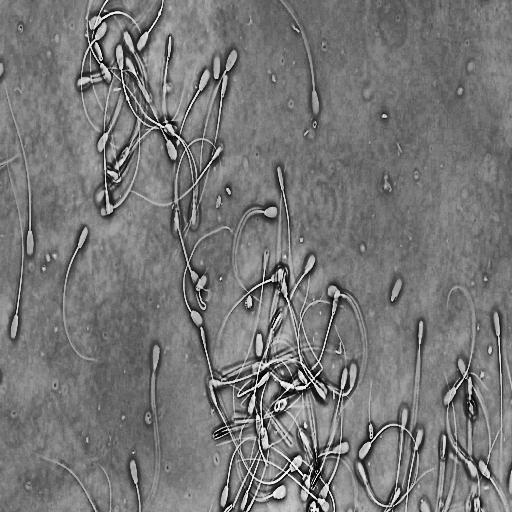coiled-tail: (195, 284, 209, 310), (274, 398, 286, 413), (276, 402, 279, 409)
loose-head: (387, 273, 407, 308), (211, 49, 222, 83), (254, 331, 265, 360)
loose-tail: (34, 448, 100, 512)
normal: (178, 72, 230, 242), (213, 265, 288, 368), (276, 163, 324, 307), (124, 142, 225, 210), (58, 222, 103, 365), (100, 64, 141, 220), (2, 71, 35, 262), (114, 39, 181, 133), (199, 45, 240, 197), (79, 19, 124, 150), (181, 223, 236, 330), (357, 420, 420, 512), (278, 0, 322, 125), (291, 286, 342, 387), (296, 298, 344, 403), (102, 34, 129, 218), (219, 436, 287, 509), (238, 413, 304, 488), (232, 203, 279, 307), (442, 285, 478, 408), (4, 148, 26, 349), (173, 65, 212, 176), (259, 358, 302, 452), (140, 342, 161, 511), (207, 352, 294, 392), (316, 396, 344, 508), (490, 309, 505, 478), (193, 271, 211, 314), (271, 392, 290, 416)
